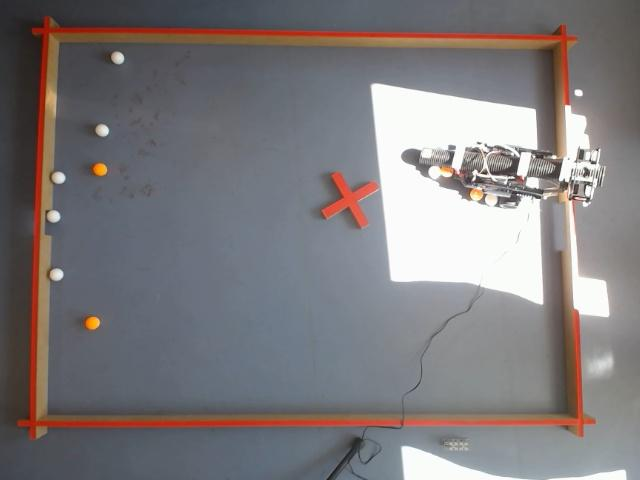orange: (81, 314, 102, 333), (90, 161, 110, 179), (470, 188, 483, 201), (441, 168, 454, 178)
robot: (418, 143, 606, 209)
white: (48, 266, 66, 284), (108, 50, 125, 68), (92, 122, 110, 139), (49, 170, 68, 186), (45, 208, 62, 224), (427, 166, 441, 179), (485, 194, 498, 207)
